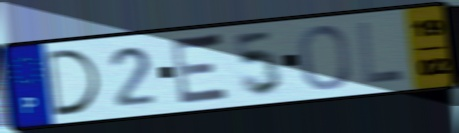2: (107, 45, 159, 110)
5: (231, 28, 283, 99)
D: (43, 47, 104, 119)
E: (170, 31, 234, 108)
L: (355, 19, 408, 87)
O: (296, 23, 353, 93)
